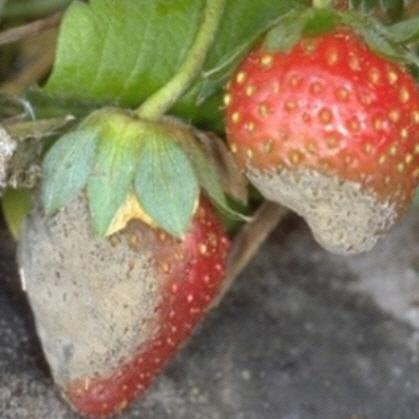Gray Mold: (12, 130, 192, 413), (236, 154, 412, 258)
